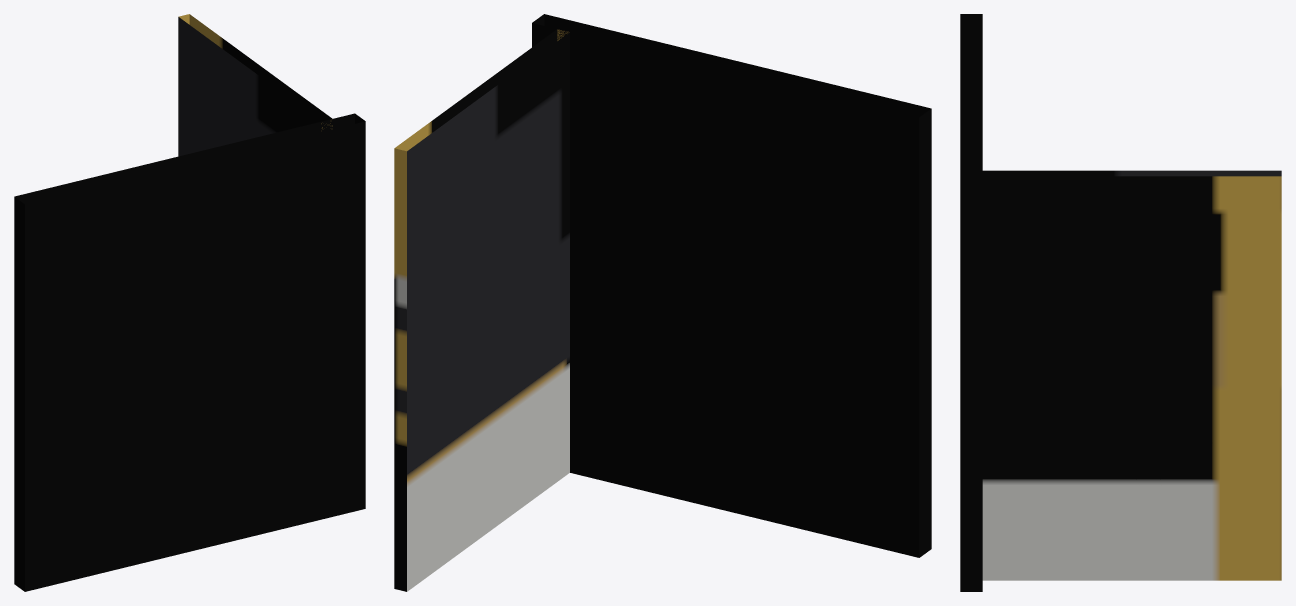
File: section-10.obj
The picture shows the model from 3 angles, left to right: view 1: azimuth 30°, elevation 25°; view 2: azimuth 150°, elevation 25°; view 3: azimuth 270°, elevation 25°; orthographic projection. The views are drawn at different scales.
Size of the model in its own units: 0.92 by 1 by 0.72.
